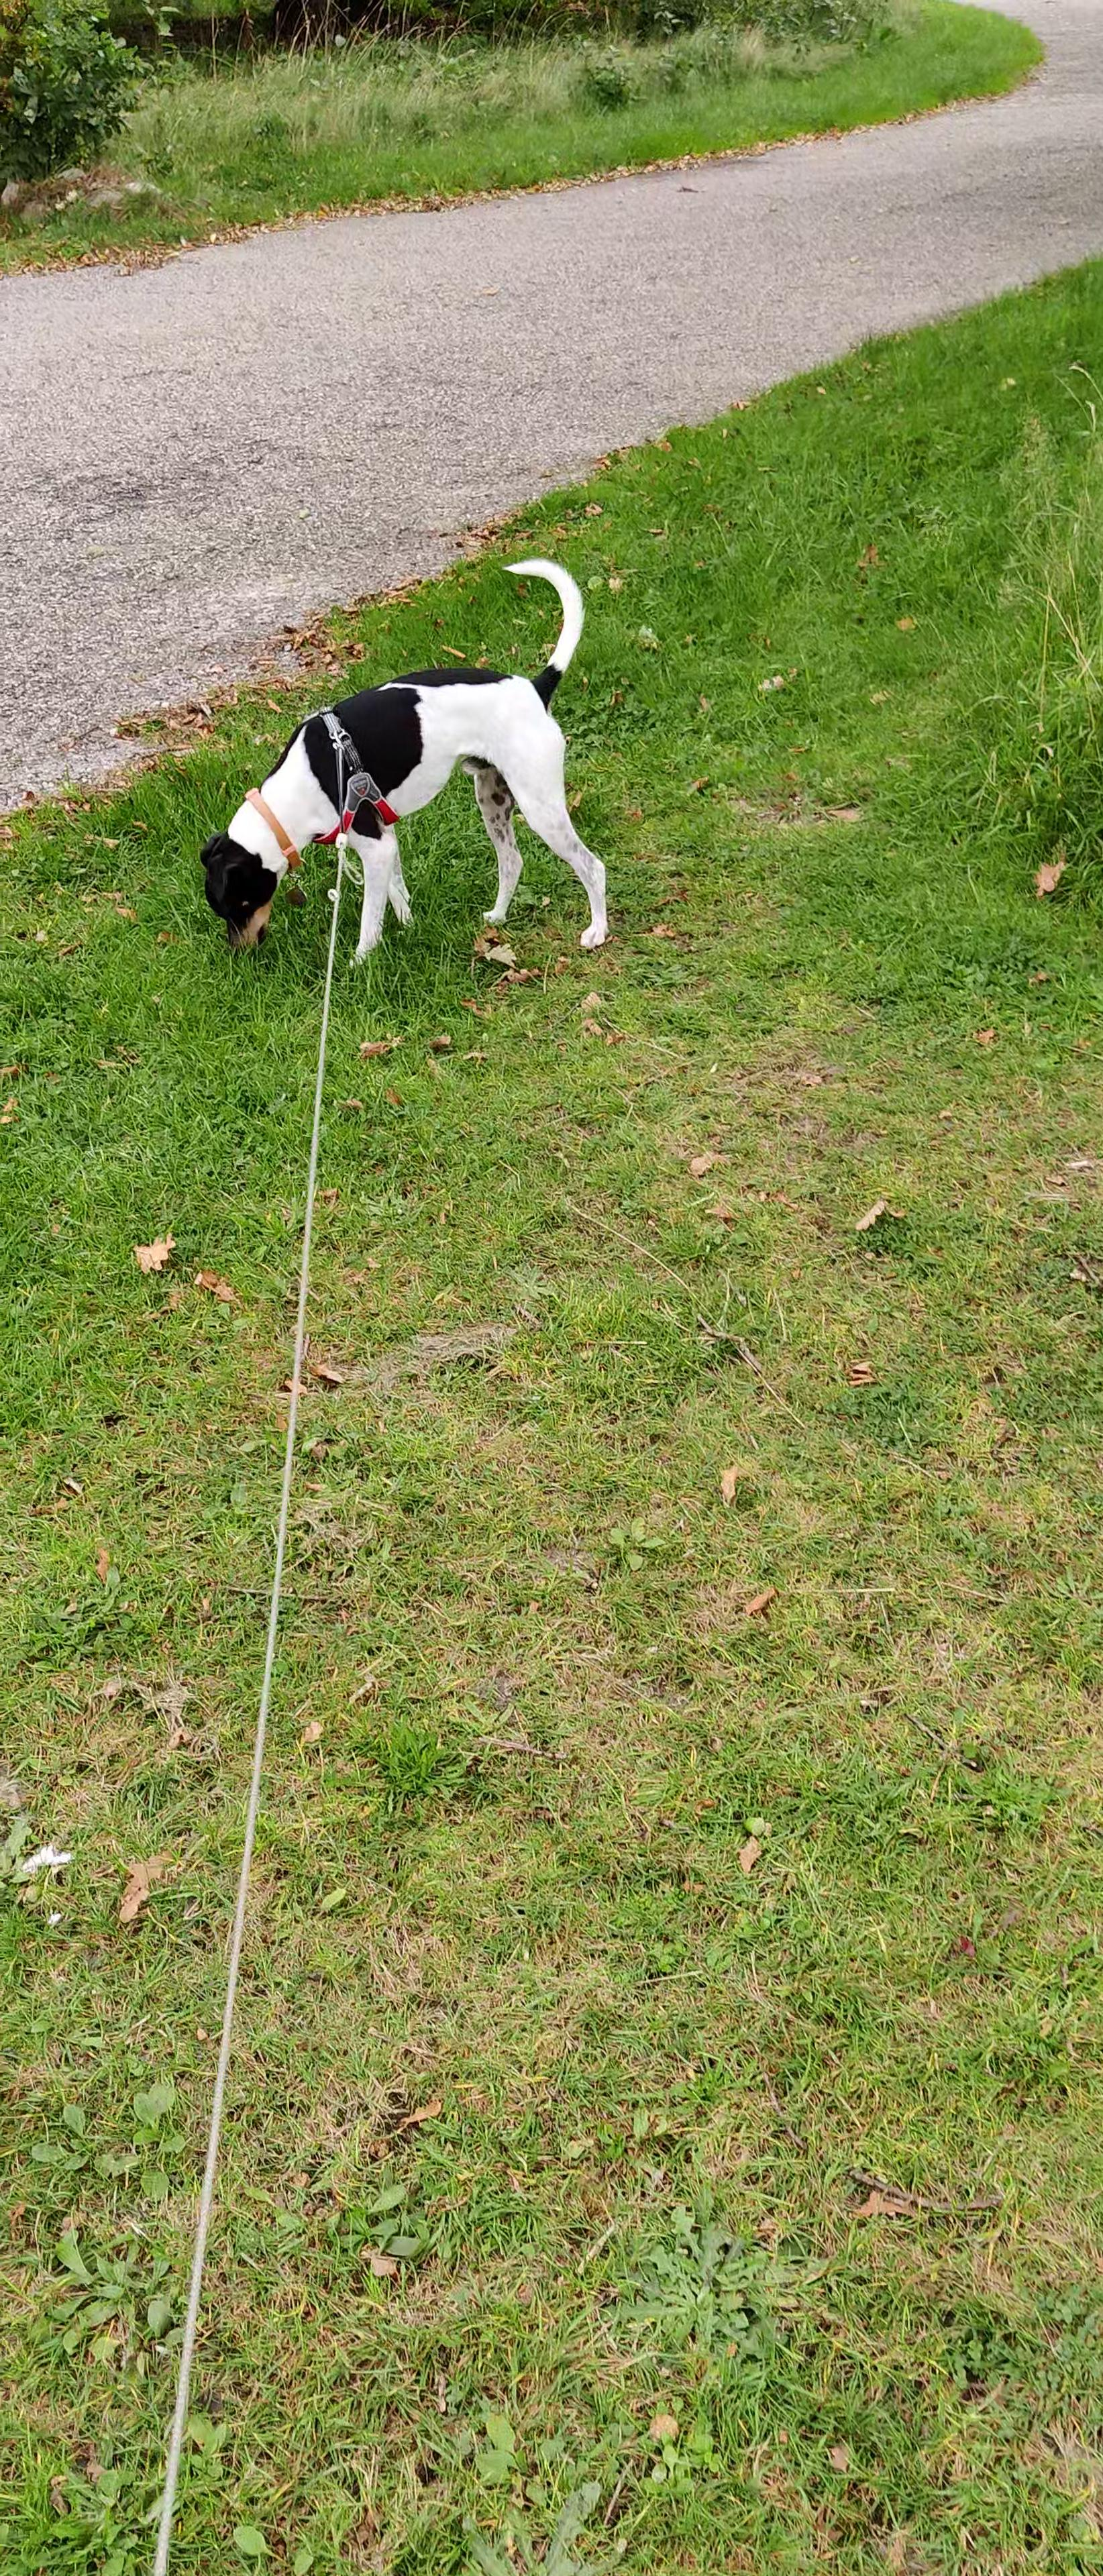Dog: (197, 557, 611, 968)
